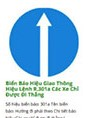Go_straight: (9, 7, 81, 78)
